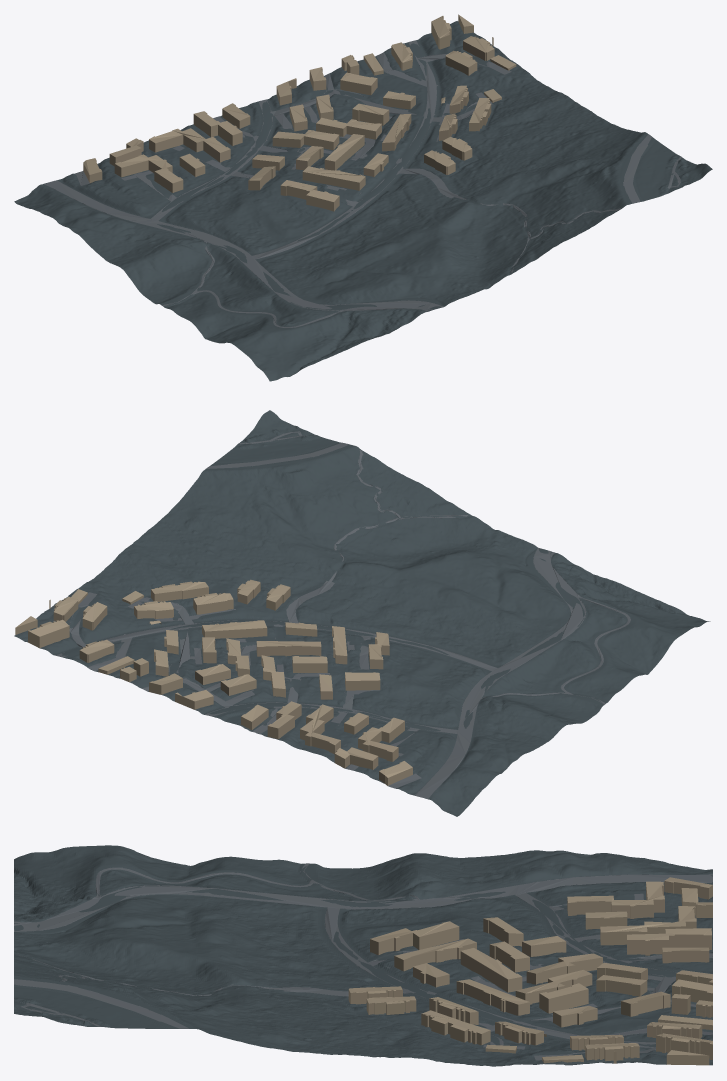
Rendered from epsg26910-1421-10893.lod0.glb.
3 renders of one model, top to bottom at view 1: azimuth 30°, elevation 25°; view 2: azimuth 150°, elevation 25°; view 3: azimuth 270°, elevation 25°, orthographic. The views are drawn at different scales.
Parts seen in each view (by area): view 1: epsg26910-1421-10893-lod0; view 2: epsg26910-1421-10893-lod0; view 3: epsg26910-1421-10893-lod0.
Part boxes in pixels (x1=…): epsg26910-1421-10893-lod0: x1=14, y1=14, x2=712, y2=381; epsg26910-1421-10893-lod0: x1=14, y1=410, x2=710, y2=816; epsg26910-1421-10893-lod0: x1=14, y1=845, x2=712, y2=1066.
Bounding box in the file's own units: 384 × 93.19 × 384.
